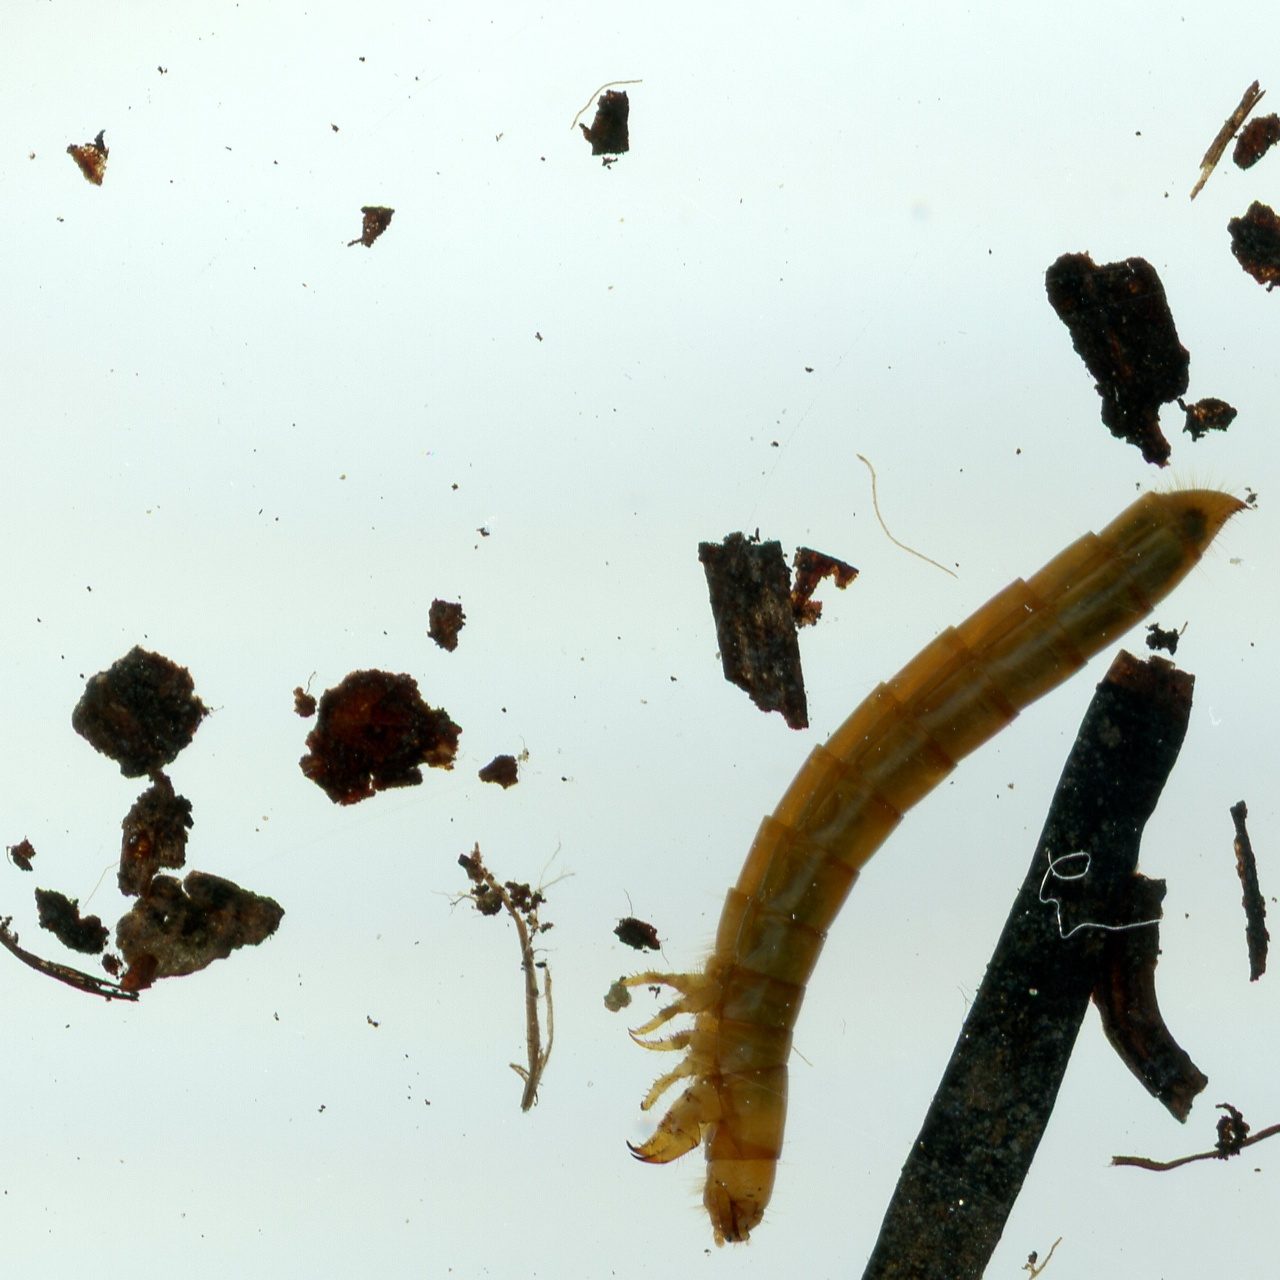arthropod: (618, 483, 1251, 1249)
